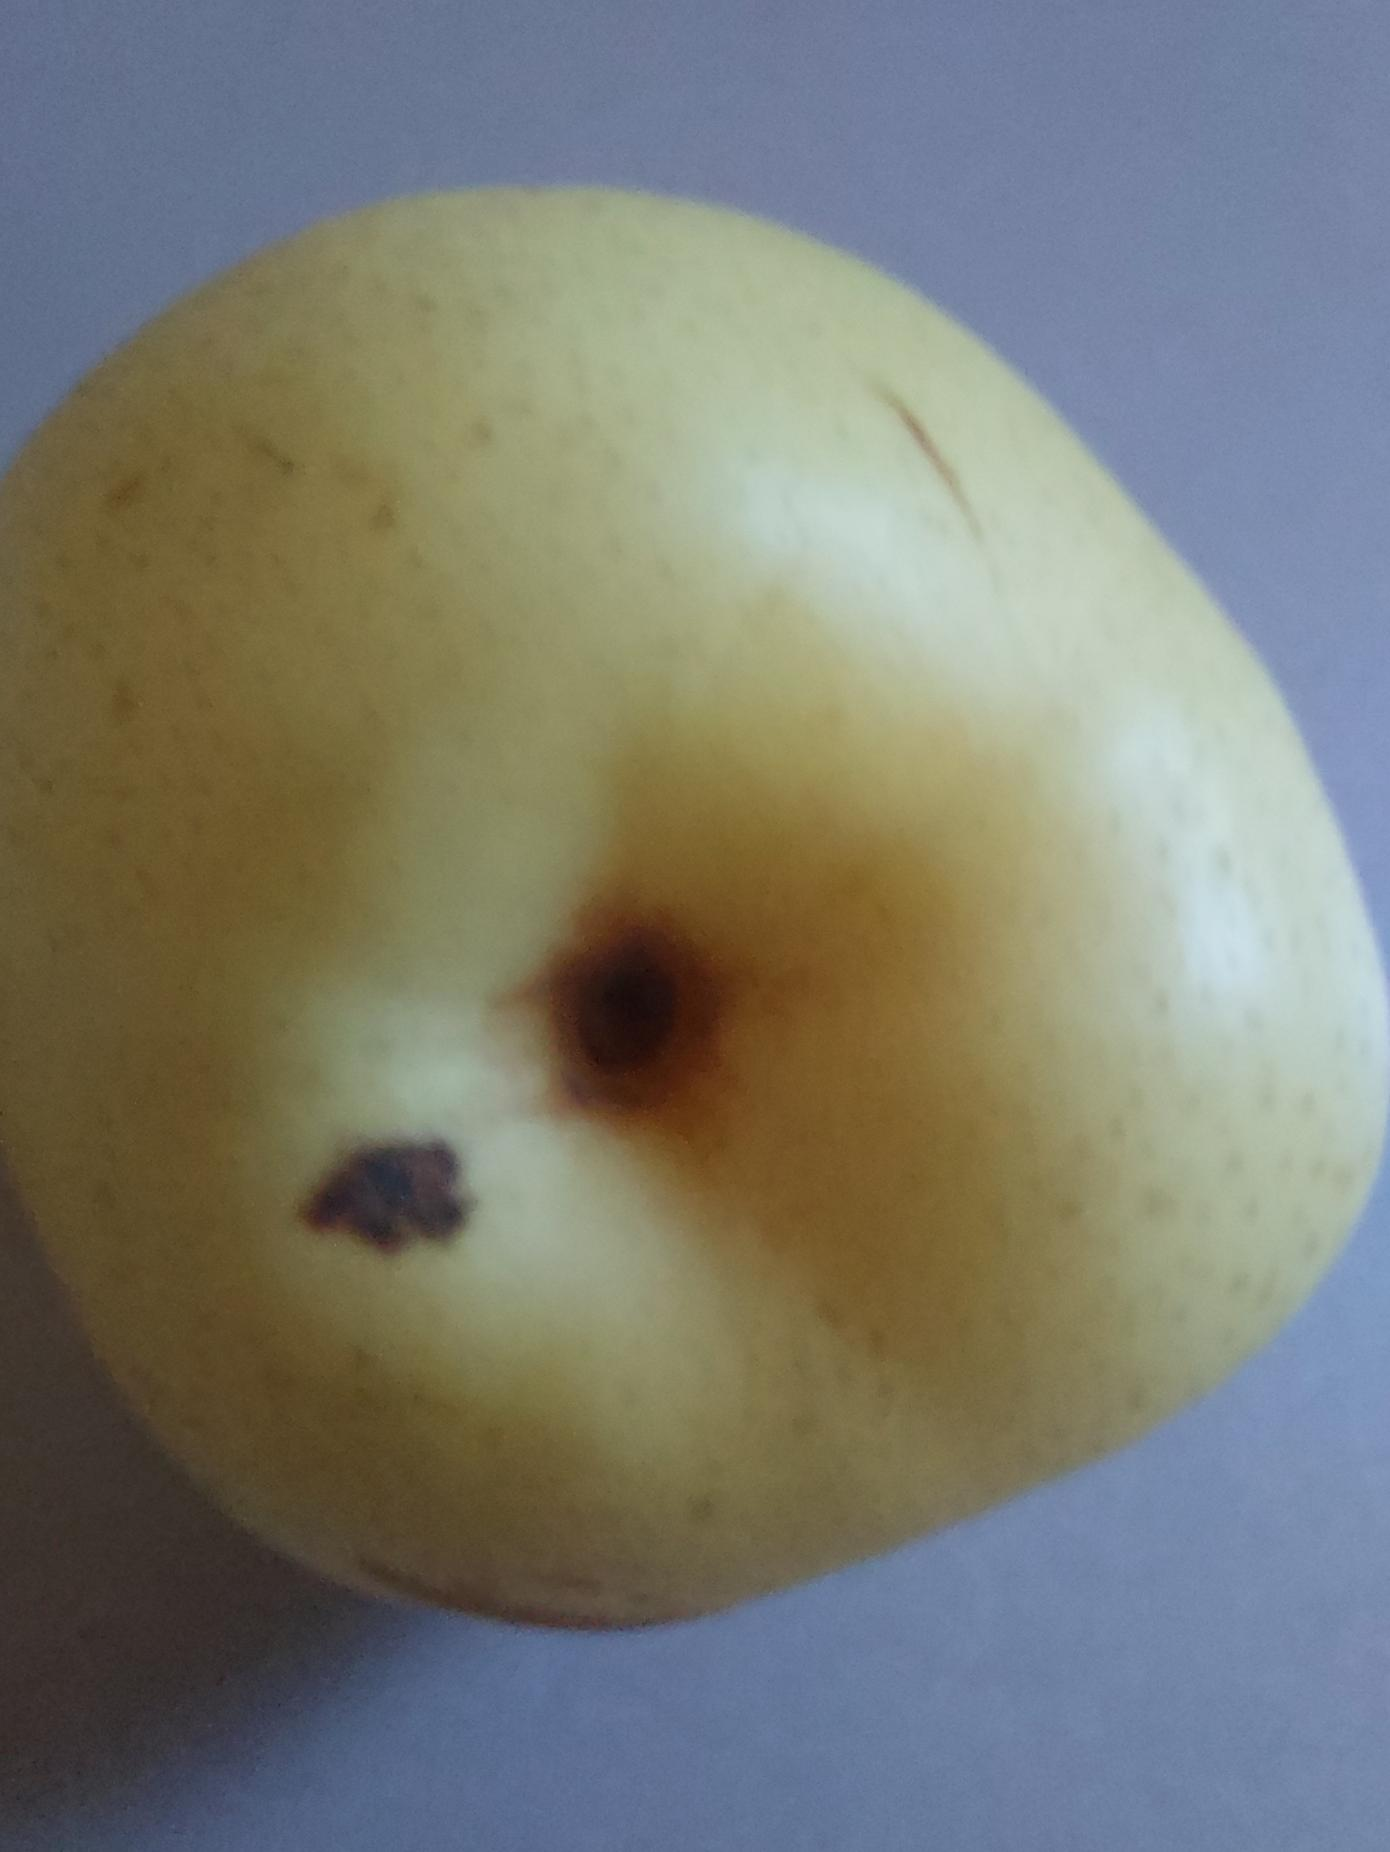Good Pear: (0, 150, 1390, 1694)
